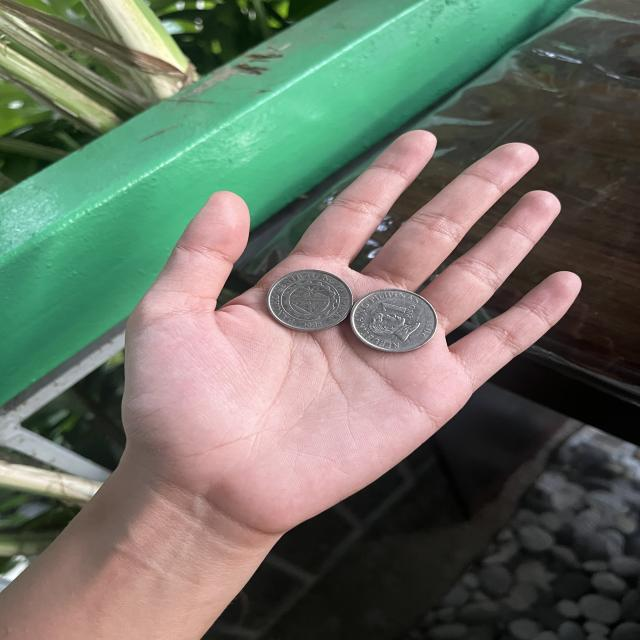1_Old_Back: (272, 276, 347, 327)
1_Old_Front: (357, 292, 432, 345)
